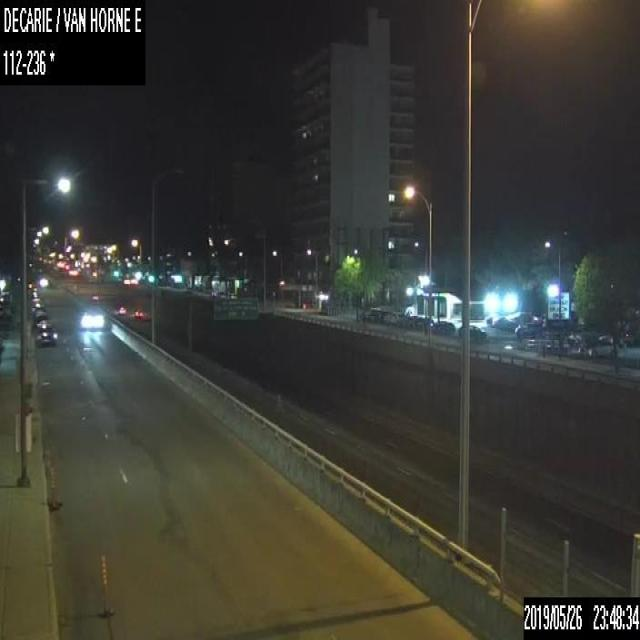construction: (99, 554, 114, 618), (48, 464, 58, 511)
vehicle: (582, 337, 618, 358), (36, 322, 56, 345), (457, 324, 486, 336), (34, 311, 50, 327), (30, 297, 40, 311), (33, 306, 45, 314), (134, 308, 142, 318), (118, 305, 125, 314)
